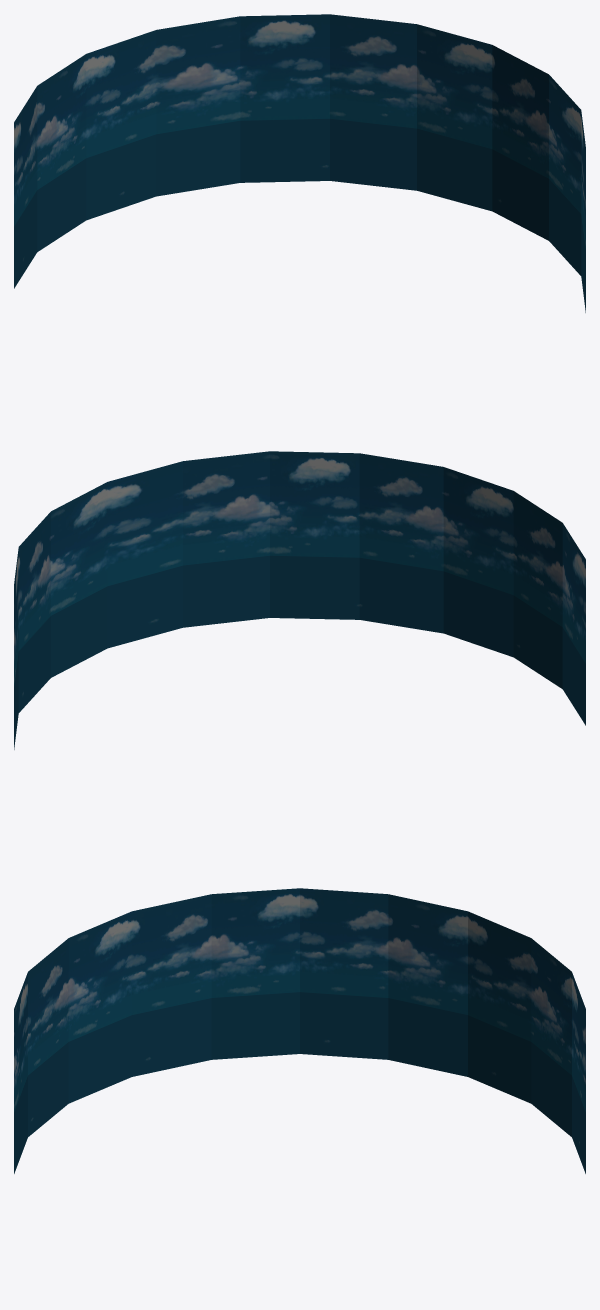
Rendered from vrcorn.glb.
The picture shows the model from 3 angles, top to bottom: view 1: azimuth 30°, elevation 25°; view 2: azimuth 150°, elevation 25°; view 3: azimuth 270°, elevation 25°; orthographic projection.
Parts seen in each view (by area): view 1: polygon0; view 2: polygon0; view 3: polygon0.
Part boxes in pixels (x1,y1,x2,y2): polygon0: (14,14,585,312); polygon0: (14,451,585,749); polygon0: (14,888,585,1173).
Size of the model in its own units: 2853 by 1462 by 2853.
Materials: 1 (1 with a texture image).
